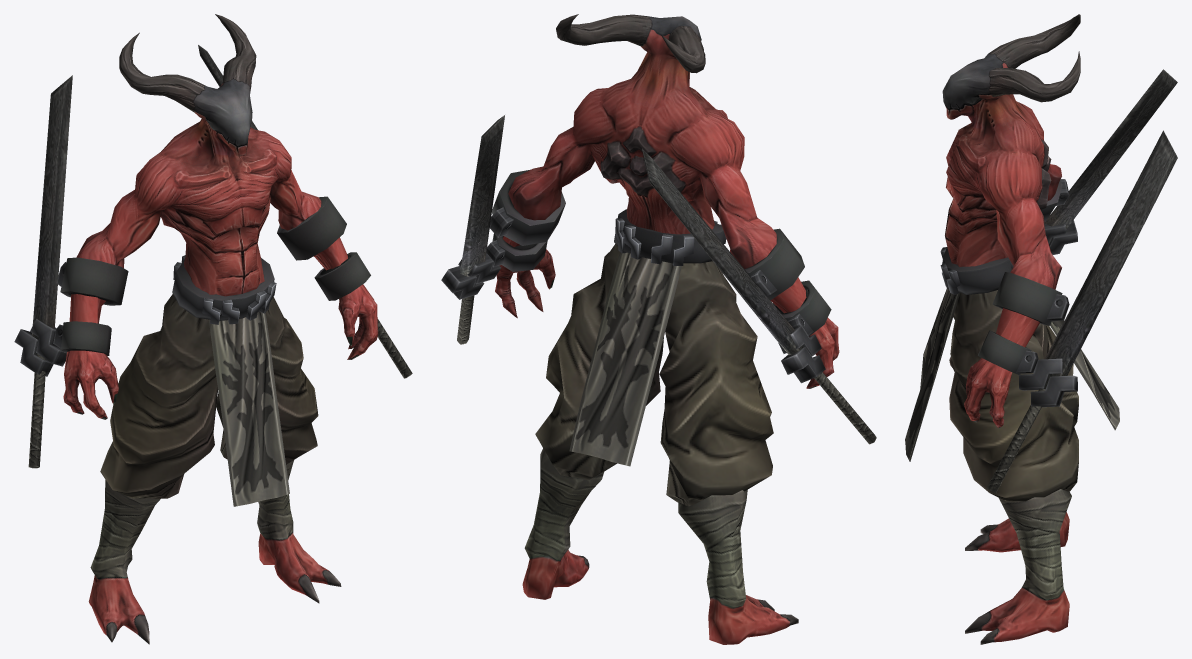
3 views of the same model, side by side, from view 1: azimuth 30°, elevation 25°; view 2: azimuth 150°, elevation 25°; view 3: azimuth 270°, elevation 25° (orthographic). The views are drawn at different scales.
Visible parts, largest first — view 1: demonslayer; view 2: demonslayer; view 3: demonslayer.
Boxes of the visible parts, bbox=[...] form: demonslayer: bbox=[14, 14, 412, 644]; demonslayer: bbox=[441, 14, 876, 644]; demonslayer: bbox=[905, 14, 1177, 644].
Bounding box in the file's own units: 1.62 × 2.27 × 1.
Materials: 1 (1 with a texture image).
